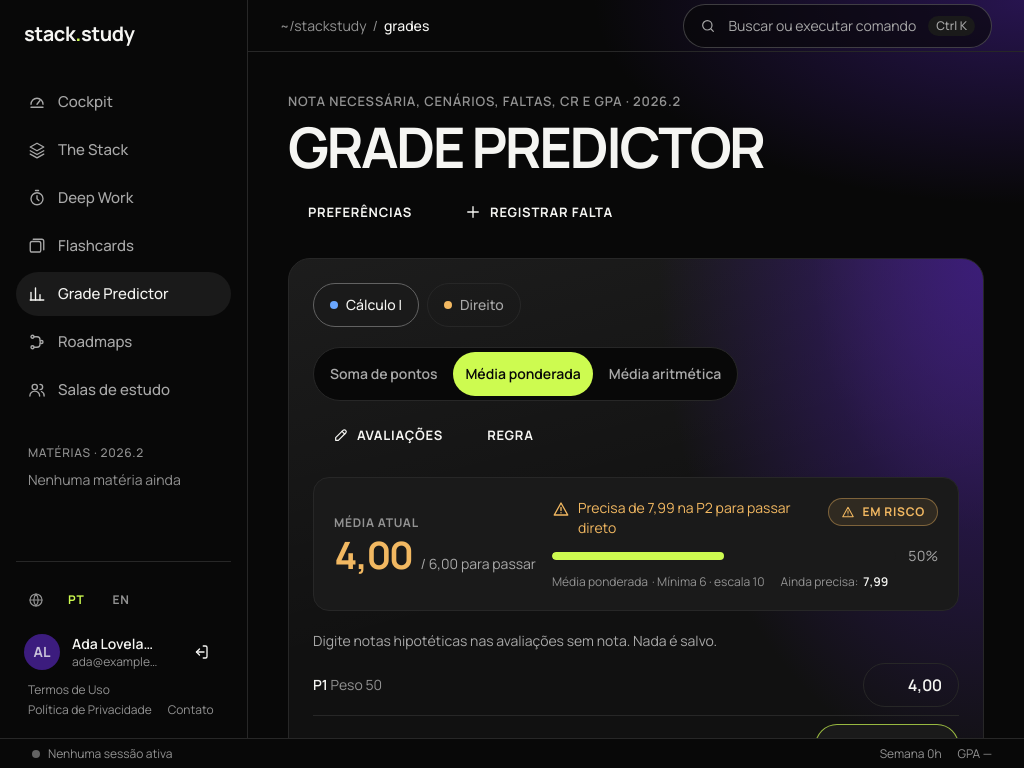
Test: GradesPage › botão "Registrar falta" do topo abre o diálogo
# O primeiro é o do topo (o "+" do cartão Faltas tem o mesmo nome).
What coordinates should you click on to do the following:
click the button "Registrar falta"
I would click on:
 (538, 212)
Its box is [444,190,633,234].
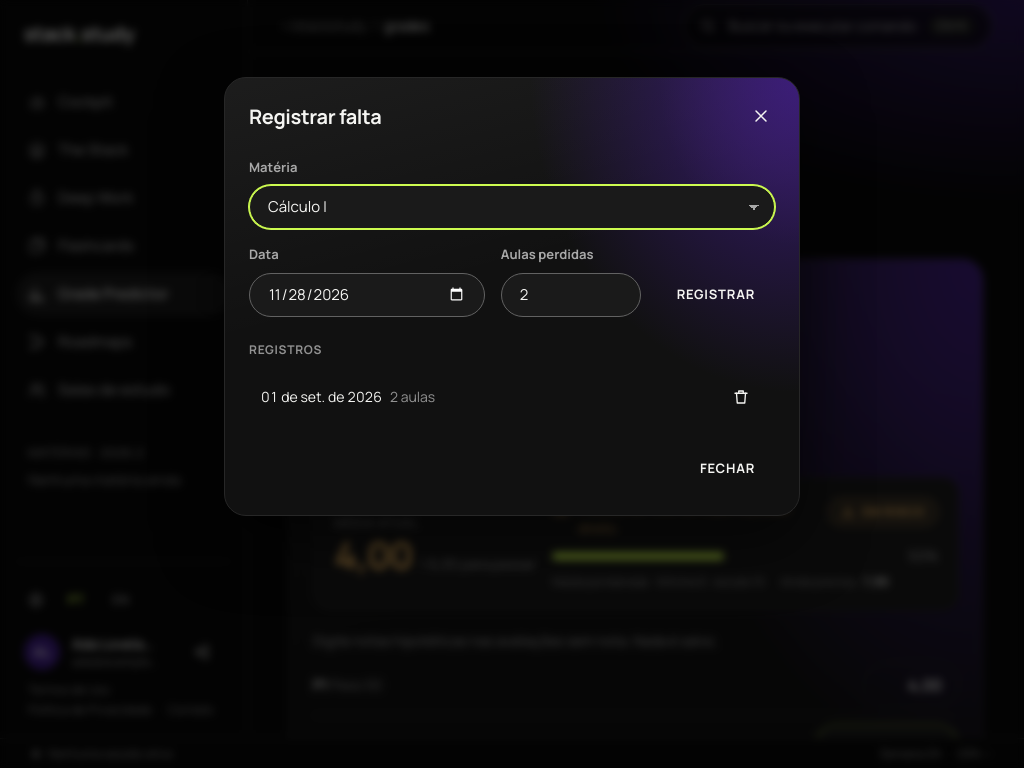
Expected: the dialog "Registrar falta" is shown, [224,77,800,516]
